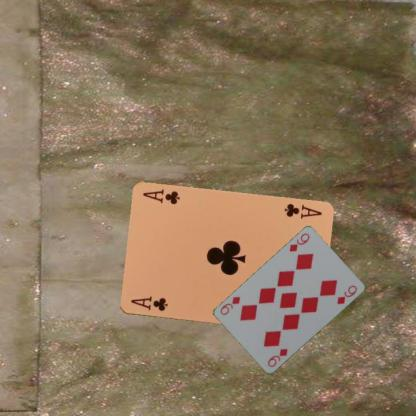9d: (286, 231, 311, 254), (265, 346, 289, 369)
Ac: (281, 201, 323, 220), (128, 294, 168, 312)
